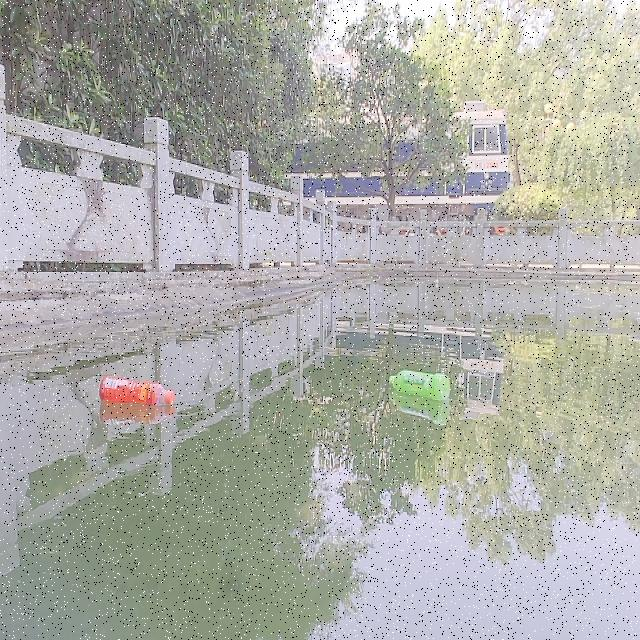bottle: (384, 367, 451, 401), (99, 376, 174, 404)
